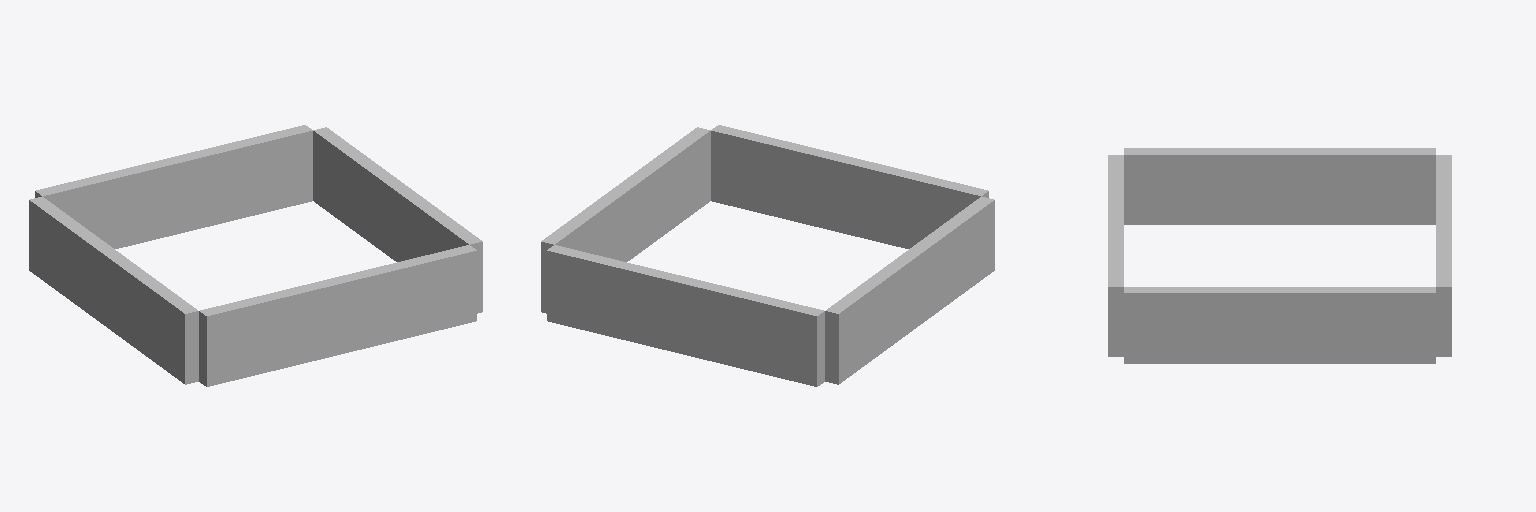
File: border.obj
3 views of the same model, side by side, from view 1: azimuth 30°, elevation 25°; view 2: azimuth 150°, elevation 25°; view 3: azimuth 270°, elevation 25° (orthographic).
Parts seen in each view (by area): view 1: Cube.001; view 2: Cube.001; view 3: Cube.001.
Boxes of the visible parts, <box> form: Cube.001: <box>29,125,482,386</box>; Cube.001: <box>541,125,994,386</box>; Cube.001: <box>1108,148,1451,363</box>.
Bounding box in the file's own units: 440 × 100 × 440.